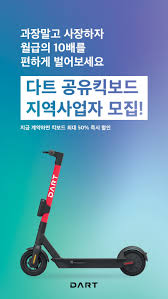kick_board: (21, 150, 148, 275)
kick_body: (56, 258, 118, 267)
kick_handler: (40, 149, 64, 163)
kick_neck: (36, 165, 60, 241)
kick_wheel: (119, 247, 146, 277), (20, 248, 47, 274)
